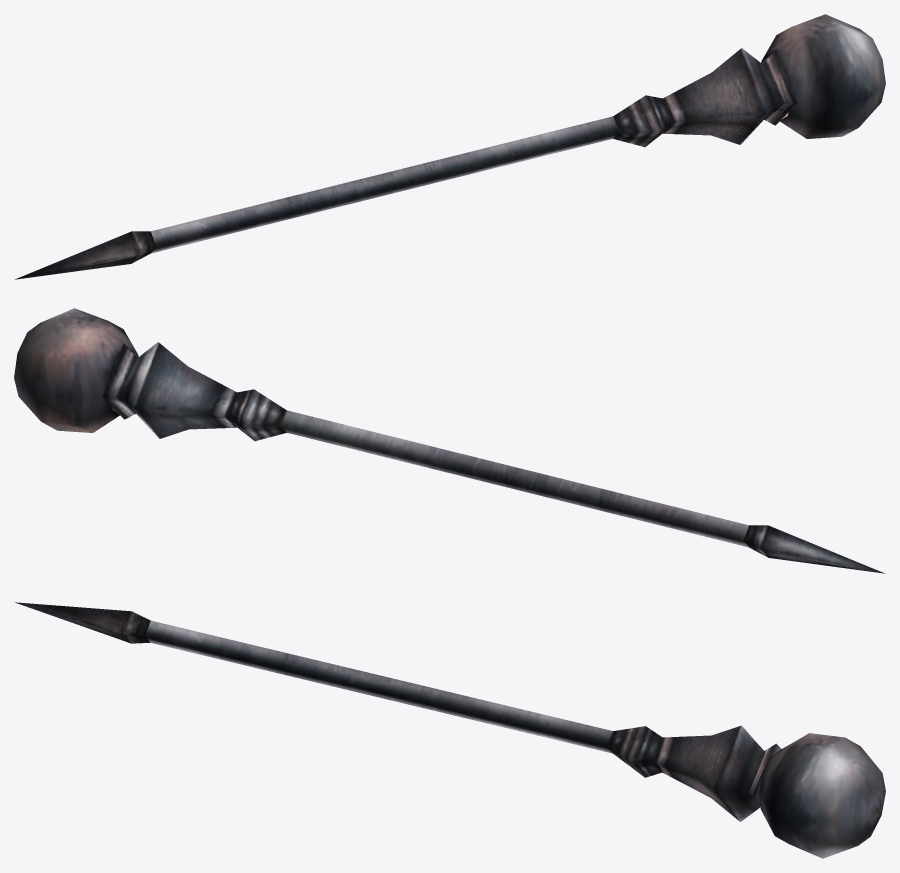
3 views of the same model, one above another, from view 1: azimuth 30°, elevation 25°; view 2: azimuth 150°, elevation 25°; view 3: azimuth 330°, elevation 25° (orthographic).
Parts seen in each view (by area): view 1: model_d0d91779780abcf93f; view 2: model_d0d91779780abcf93f; view 3: model_d0d91779780abcf93f.
Part boxes in pixels (<box>): model_d0d91779780abcf93f: <box>15,14,885,279</box>; model_d0d91779780abcf93f: <box>14,308,884,573</box>; model_d0d91779780abcf93f: <box>15,602,885,858</box>.
Bounding box in the file's own units: 0.918 × 0.109 × 0.1169.
1 material, 1 textured.
